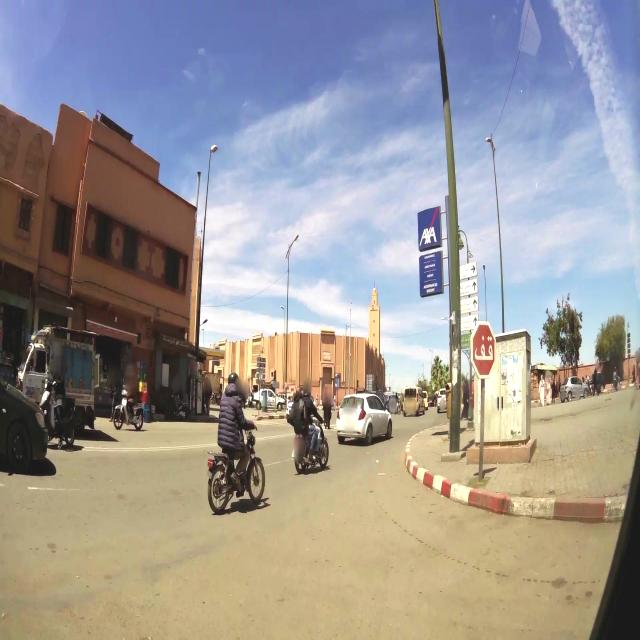bike: (207, 414, 266, 516), (292, 404, 330, 475), (37, 390, 79, 448), (113, 389, 144, 431)
car: (18, 325, 98, 427), (0, 344, 48, 474), (336, 392, 393, 445), (560, 374, 586, 402), (402, 385, 423, 417), (259, 388, 276, 409), (436, 388, 448, 414), (285, 396, 296, 424), (420, 390, 429, 410), (430, 390, 438, 406)
